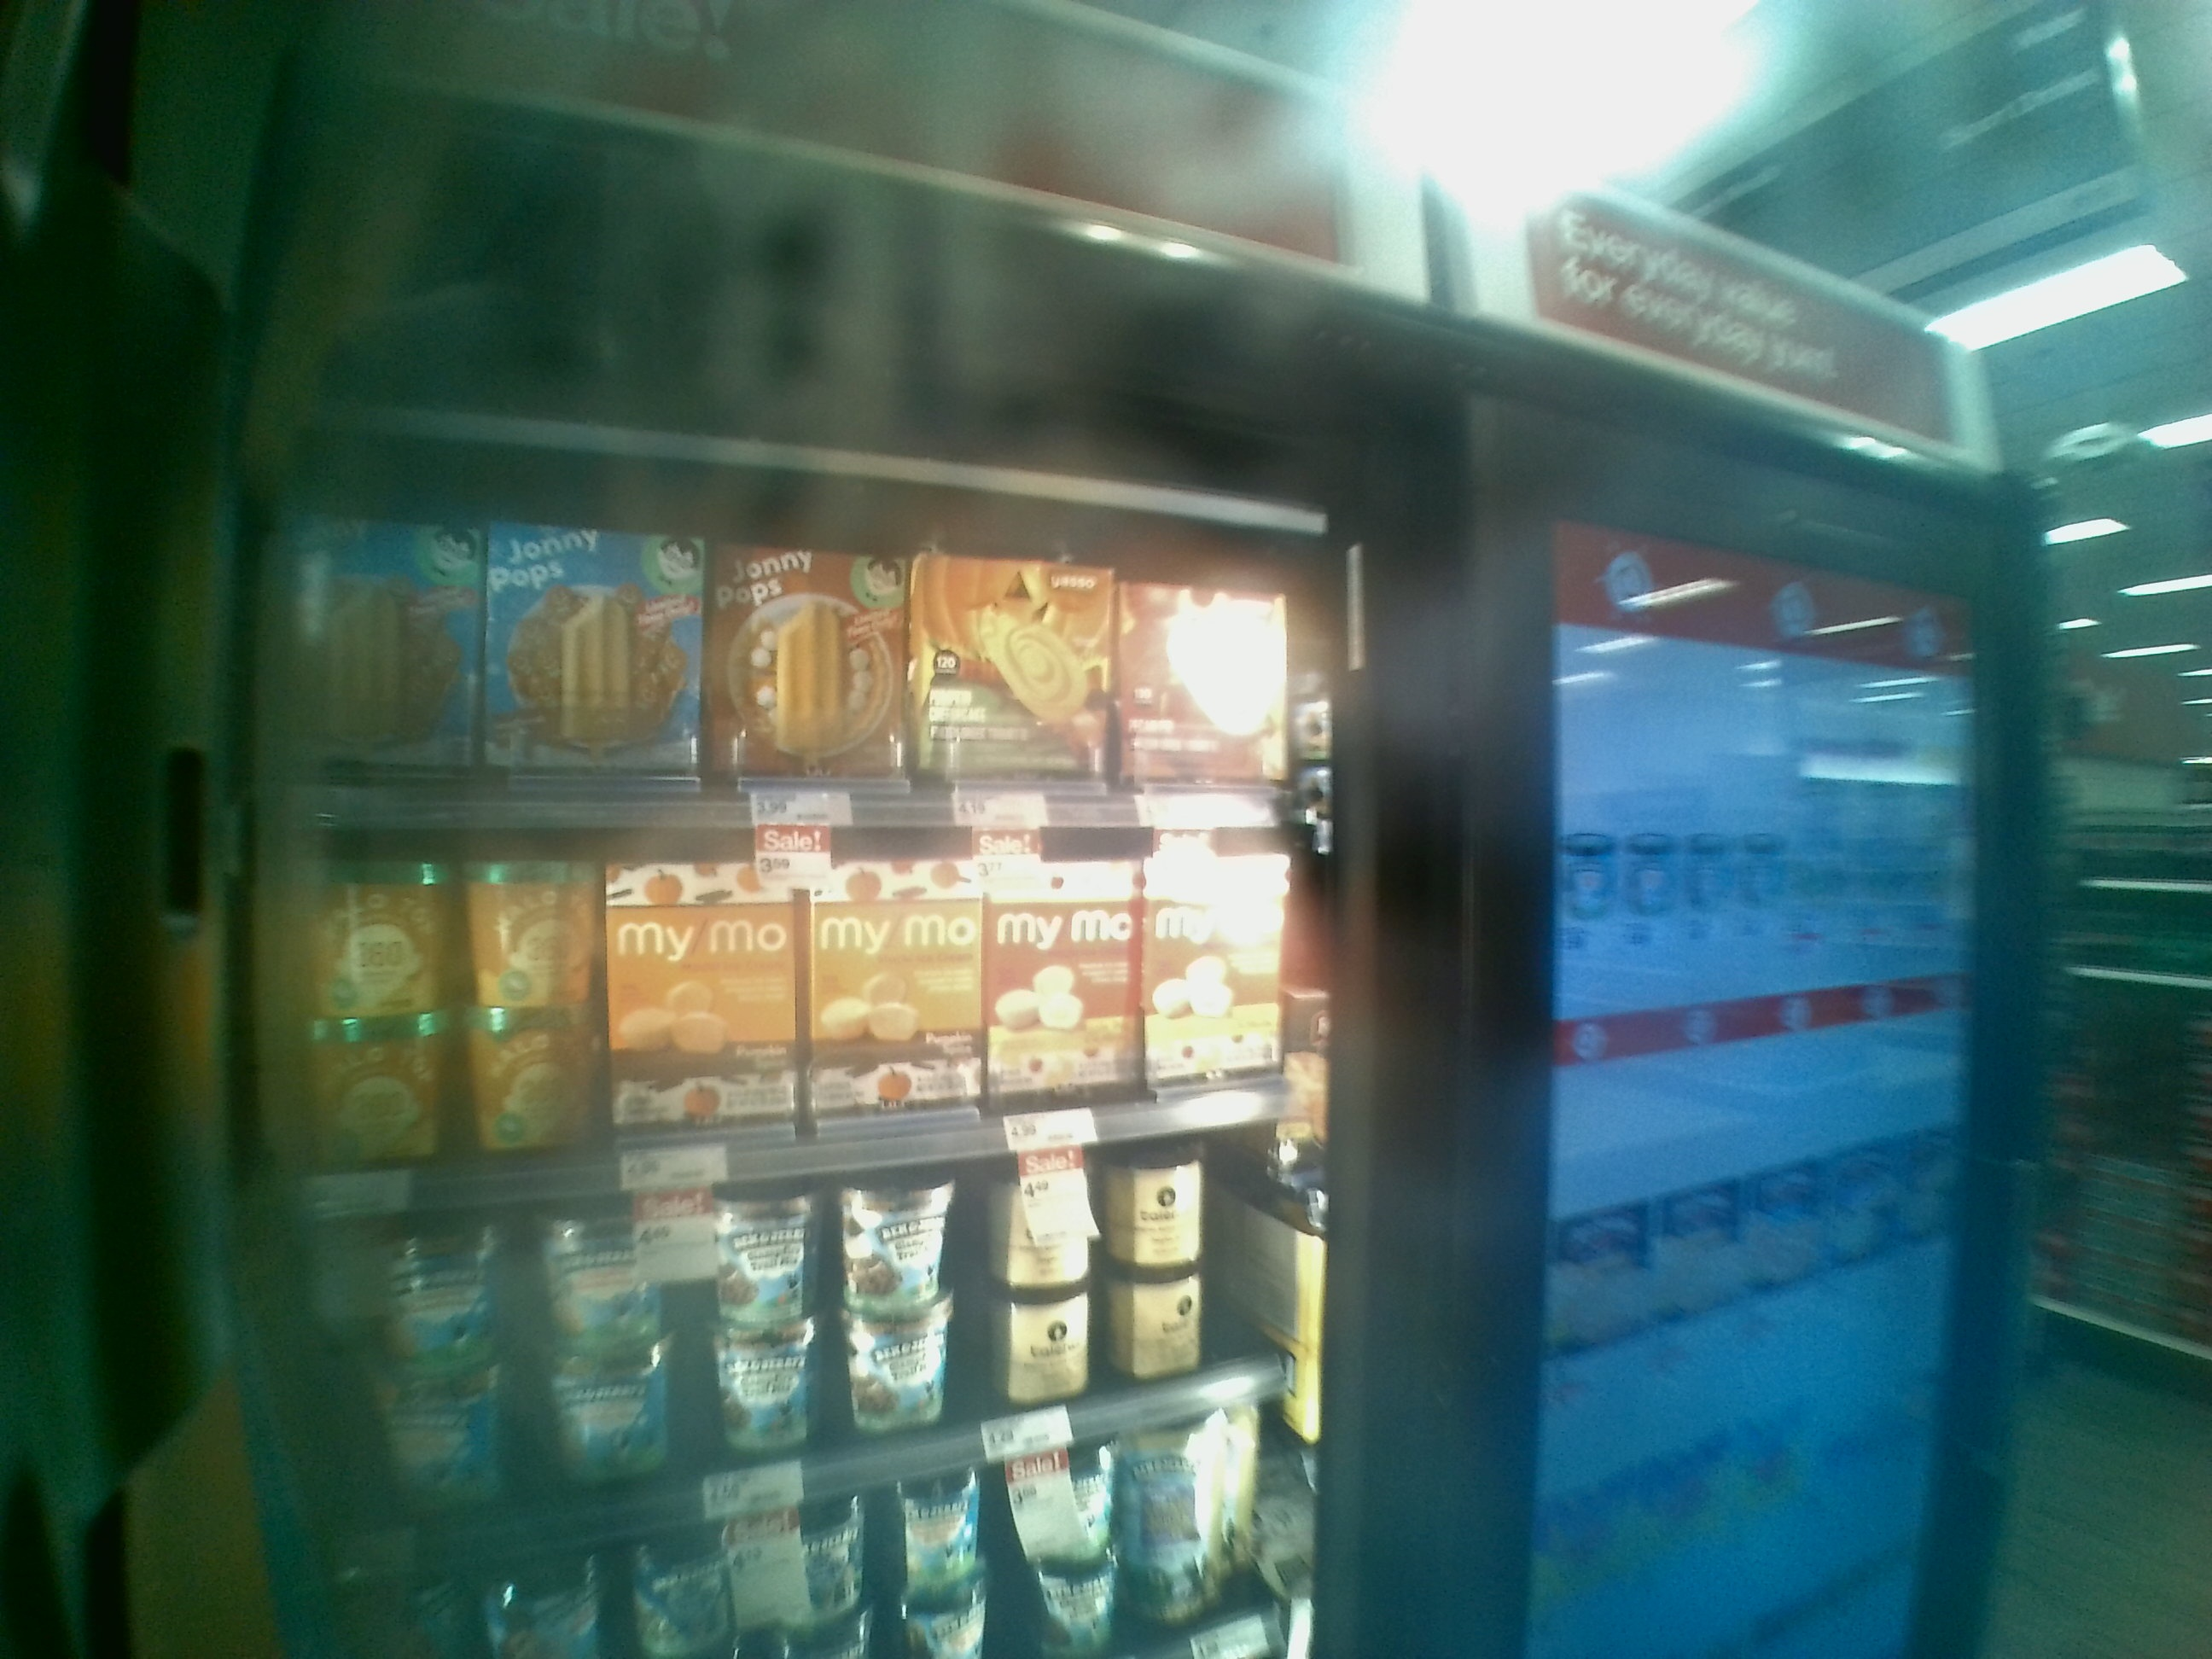shelf: (254, 1150, 1336, 1572), (233, 823, 1348, 1192), (247, 455, 1357, 823)
